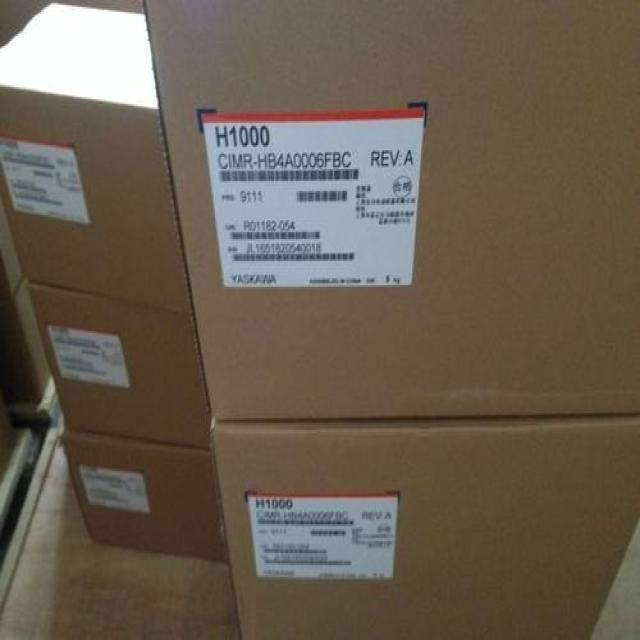box: (143, 0, 640, 422), (211, 416, 640, 640), (0, 3, 192, 316), (26, 280, 214, 447), (61, 435, 230, 565), (0, 285, 50, 401), (0, 205, 22, 305)
